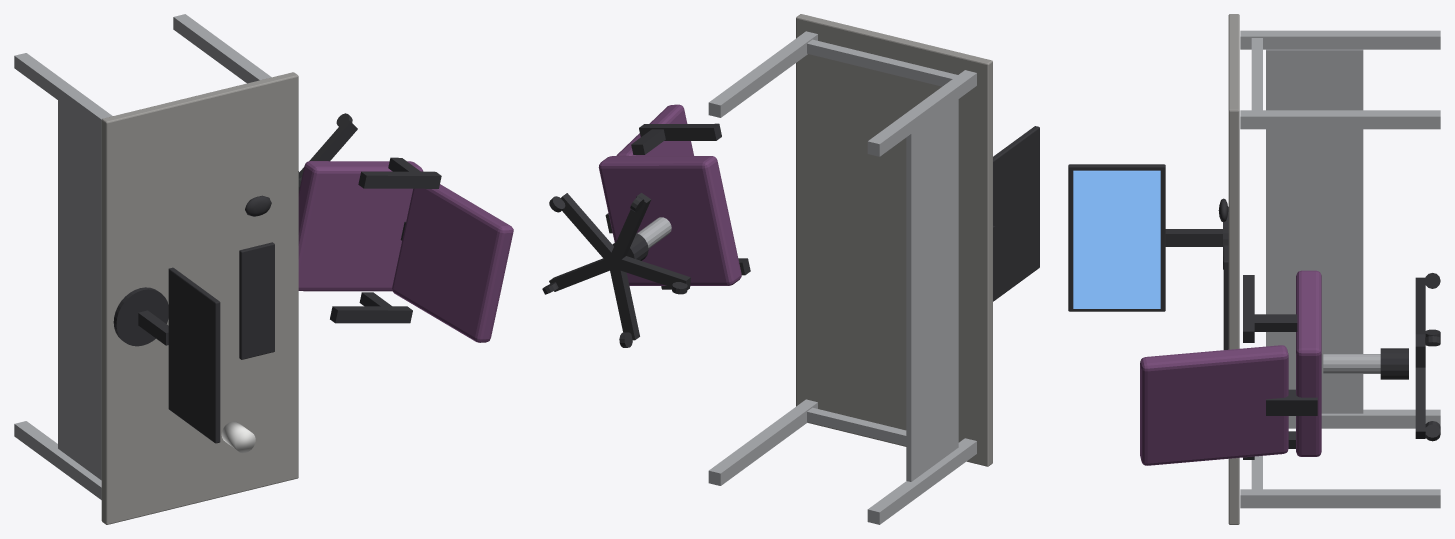
Rendered from podC_workstation2.glb.
3 views of the same model, side by side, from view 1: azimuth 30°, elevation 25°; view 2: azimuth 150°, elevation 25°; view 3: azimuth 270°, elevation 25° (orthographic). The views are drawn at different scales.
Parts seen in each view (by area): view 1: podC_desk2_top, podC_desk2_modesty, podC_chair2_back, podC_chair2_seat, podC_mon2_panel, podC_clut2_keyboard, podC_desk2_leg.003, podC_desk2_leg.002, podC_mon2_base, podC_desk2_leg.001, podC_chair2_arm, podC_chair2_arm.001 (+3 smaller); view 2: podC_desk2_top, podC_desk2_modesty, podC_chair2_seat, podC_mon2_panel, podC_desk2_leg.003, podC_desk2_leg.002, podC_desk2_leg, podC_desk2_leg.001, podC_desk2_rail.001, podC_desk2_rail, podC_chair2_back, podC_chair2_spoke2 (+7 smaller); view 3: podC_desk2_modesty, podC_chair2_back, podC_mon2_screen, podC_desk2_top, podC_chair2_seat, podC_desk2_leg, podC_desk2_leg.002, podC_desk2_leg.003, podC_mon2_panel, podC_desk2_leg.001, podC_chair2_column, podC_mon2_neck (+8 smaller).
Part boxes in pixels (x1,y1,x2,y2): podC_desk2_top: (101,72,298,524); podC_desk2_modesty: (58,100,101,480); podC_chair2_back: (392,184,513,342); podC_chair2_seat: (298,161,423,291); podC_mon2_panel: (168,267,220,443); podC_clut2_keyboard: (239,242,274,359); podC_desk2_leg.003: (14,53,112,131); podC_desk2_leg.002: (173,14,271,83); podC_mon2_base: (113,287,168,346); podC_desk2_leg.001: (14,421,101,499); podC_chair2_arm: (358,171,441,188); podC_chair2_arm.001: (330,306,412,323); podC_desk2_top: (796,14,992,466); podC_desk2_modesty: (906,99,958,481); podC_chair2_seat: (598,156,741,285); podC_mon2_panel: (993,126,1039,301); podC_desk2_leg.003: (867,70,976,156); podC_desk2_leg.002: (708,31,817,117); podC_desk2_leg: (708,399,817,485); podC_desk2_leg.001: (867,438,976,524); podC_desk2_rail.001: (807,39,957,86); podC_desk2_rail: (807,407,906,445); podC_chair2_back: (616,104,693,155); podC_chair2_spoke2: (561,193,614,265); podC_desk2_modesty: (1266,49,1363,413); podC_chair2_back: (1140,345,1288,465); podC_mon2_screen: (1073,170,1160,308); podC_desk2_top: (1228,14,1239,524); podC_chair2_seat: (1296,270,1321,456); podC_desk2_leg: (1240,489,1440,508); podC_desk2_leg.002: (1240,110,1440,129); podC_desk2_leg.003: (1240,30,1440,49); podC_mon2_panel: (1068,164,1165,311); podC_desk2_leg.001: (1288,409,1440,428); podC_chair2_column: (1323,354,1380,373); podC_mon2_neck: (1165,229,1222,246).
Size of the model in its own units: 1.52 by 1.6 by 1.3.
